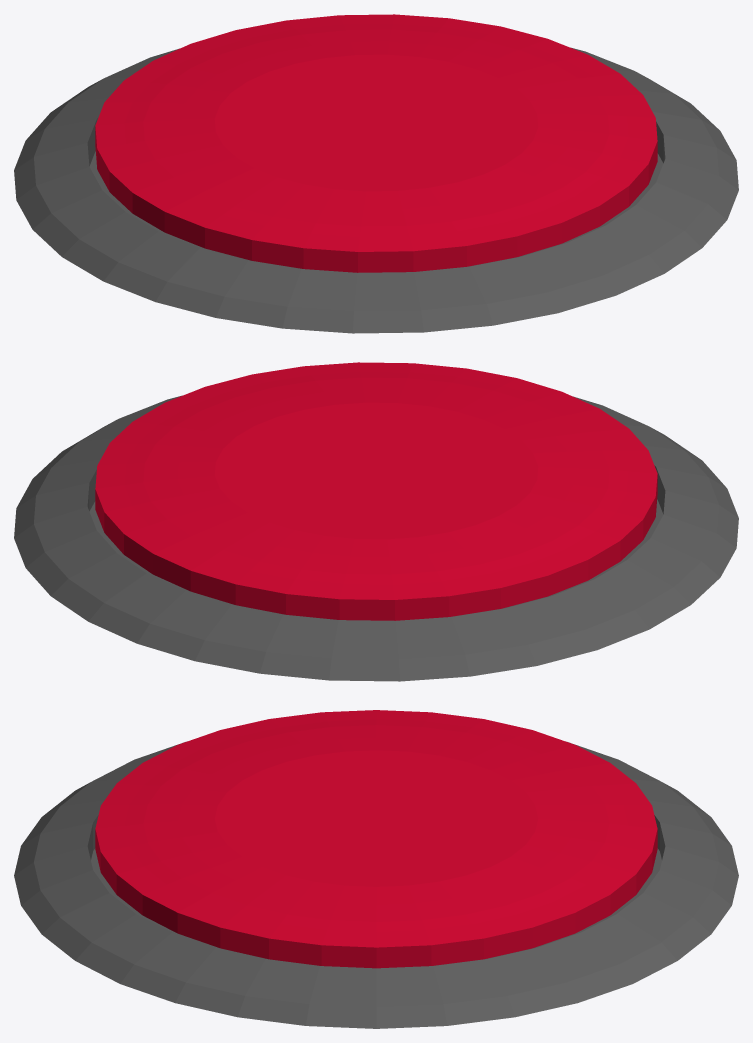
Rendered from props.fbx_b18.fbx.
3 views of the same model, one above another, from view 1: azimuth 30°, elevation 25°; view 2: azimuth 150°, elevation 25°; view 3: azimuth 270°, elevation 25° (orthographic).
Visible parts, largest first — view 1: Circle.004, Circle.023; view 2: Circle.004, Circle.023; view 3: Circle.004, Circle.023.
Part boxes in pixels (x1,y1,x2,y2): Circle.004: (95, 14, 657, 272); Circle.023: (14, 47, 738, 333); Circle.004: (95, 362, 657, 620); Circle.023: (14, 395, 738, 681); Circle.004: (95, 710, 657, 968); Circle.023: (14, 742, 738, 1028).
Size of the model in its own units: 1.11 by 0.0964 by 1.11.
